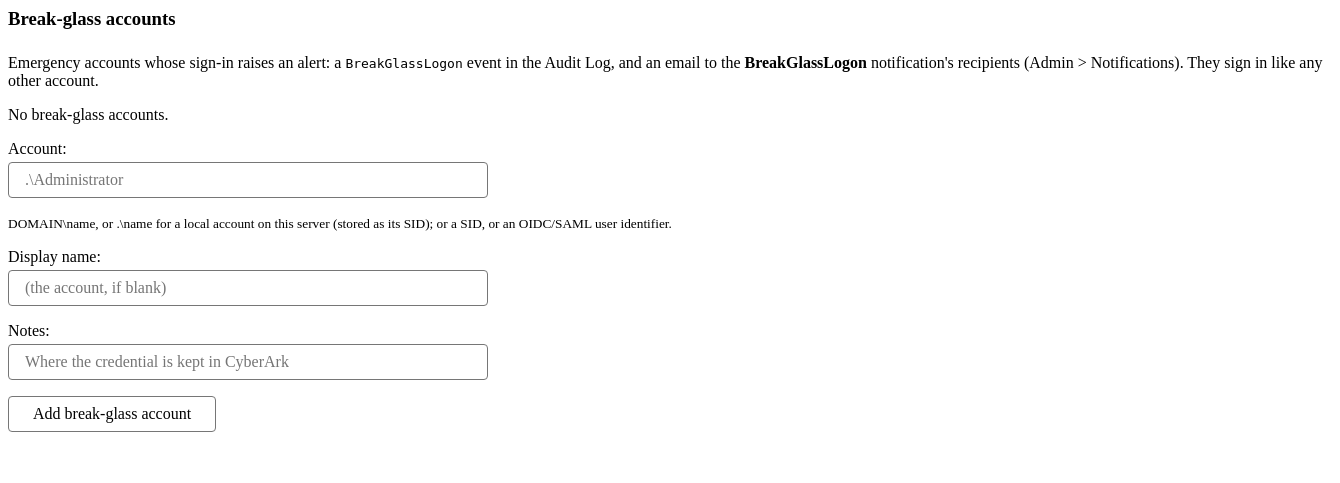
it: BreakGlassAccounts.vue › adds an account and shows why one was refused
Type "x\\y" into the field with placeholder ".\\\\Administrator" at (248, 180), box left=8, top=162, right=488, bottom=198
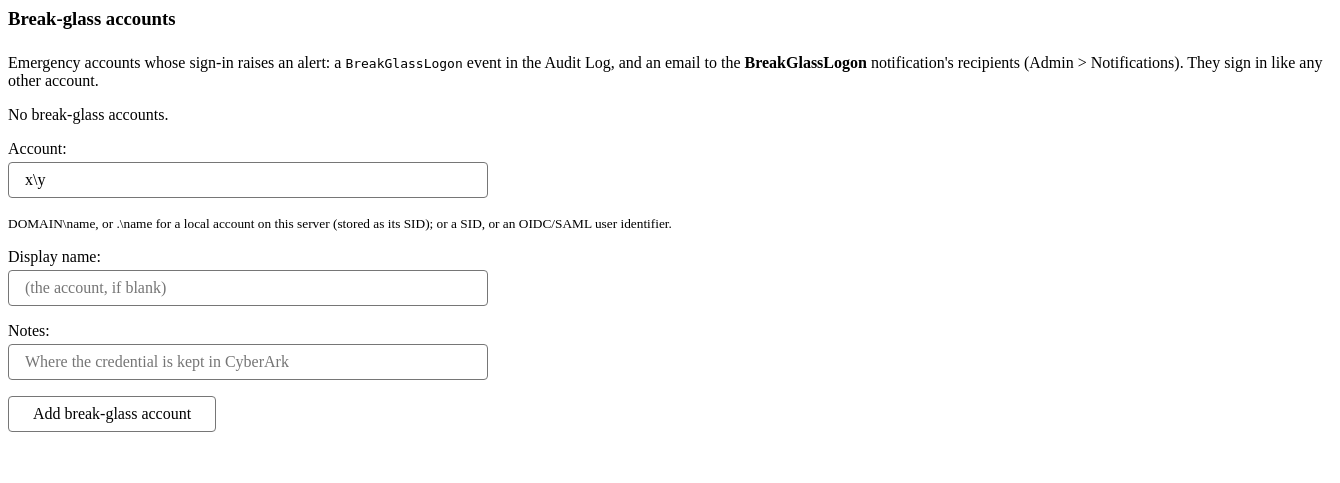
Submit the form, box left=8, top=140, right=672, bottom=432
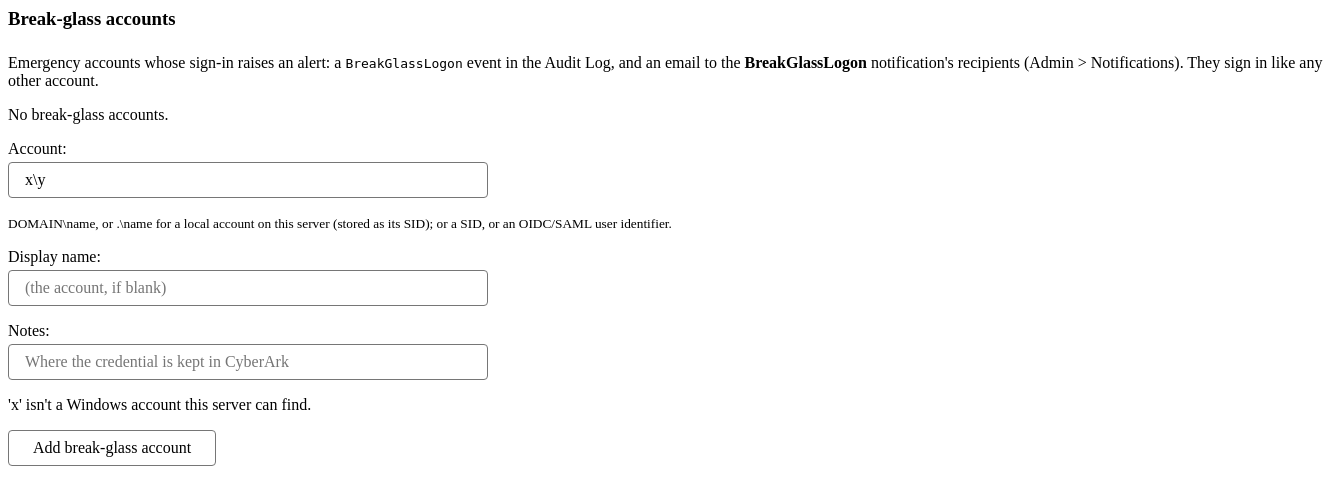
Expected: the message "'x' isn't a Windows account this server can find." is shown, left=8, top=396, right=311, bottom=413
